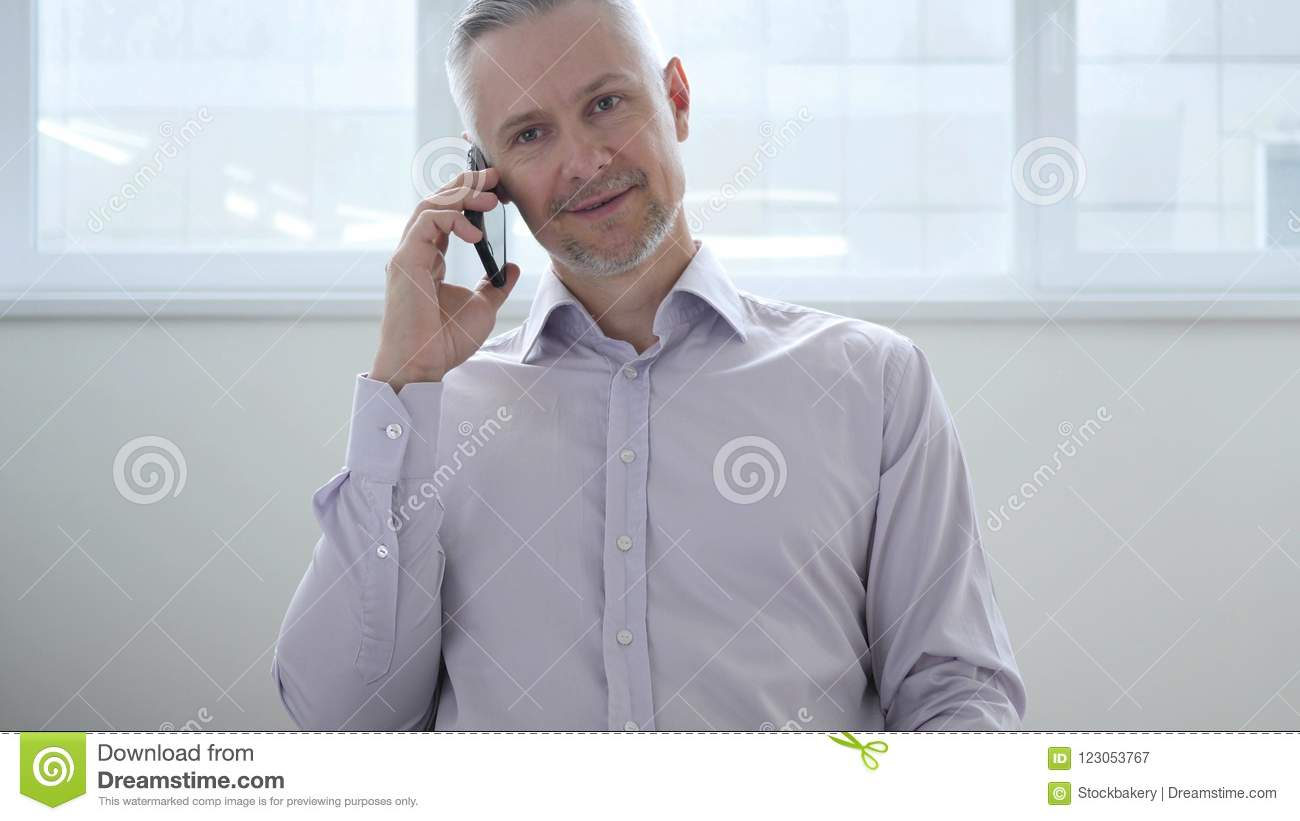phone: (455, 137, 517, 299)
talk: (383, 63, 679, 378)
